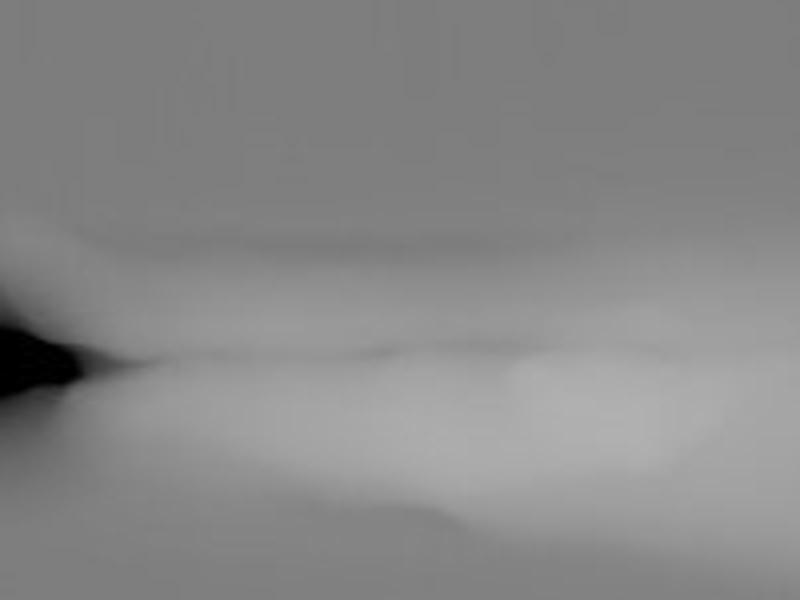defect: (1, 311, 81, 400)
